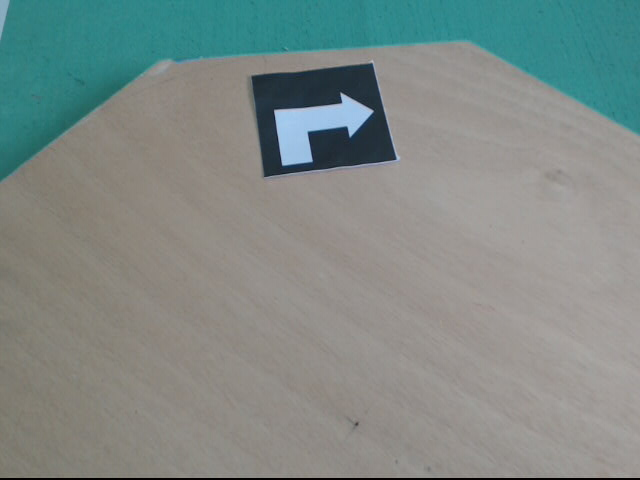right: (249, 62, 403, 180)
